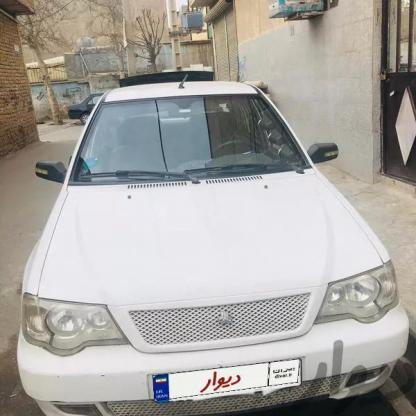Car: (12, 66, 412, 416), (66, 100, 118, 122)
